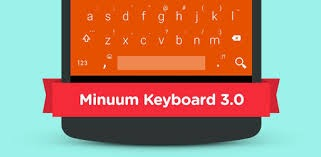keyboard: (64, 1, 258, 81)
